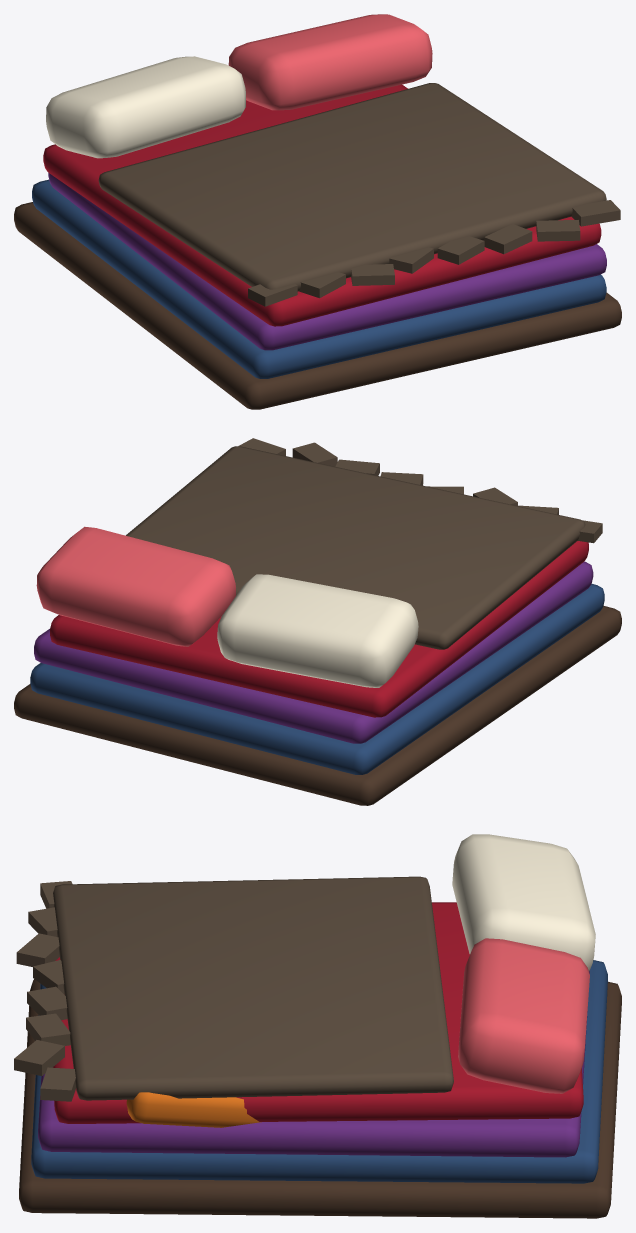
Rendered from bedroll.glb.
3 views of the same model, one above another, from view 1: azimuth 30°, elevation 25°; view 2: azimuth 150°, elevation 25°; view 3: azimuth 270°, elevation 25° (orthographic). The views are drawn at different scales.
Parts seen in each view (by area): view 1: bedroll; view 2: bedroll; view 3: bedroll.
Part boxes in pixels (bbox=[...]): bedroll: bbox=[14, 14, 621, 409]; bedroll: bbox=[14, 438, 621, 805]; bedroll: bbox=[14, 834, 621, 1218].
Size of the model in its own units: 0.8258 by 0.3357 by 0.9652.
